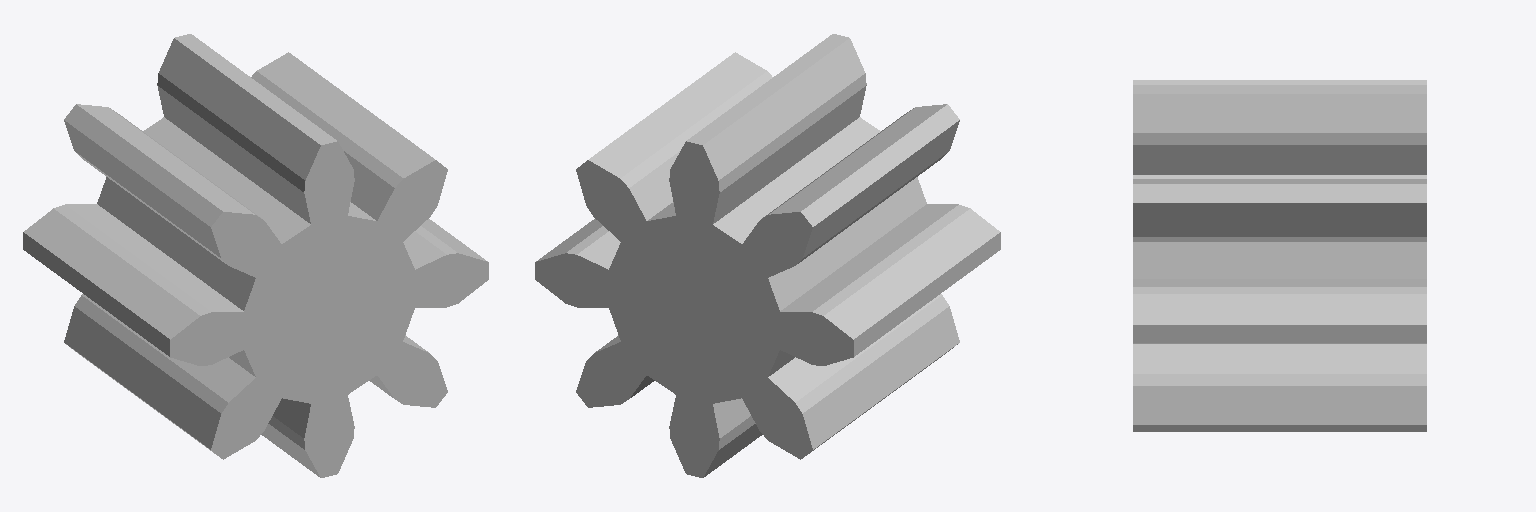
File: gear08a.obj
The picture shows the model from 3 angles: view 1: azimuth 30°, elevation 25°; view 2: azimuth 150°, elevation 25°; view 3: azimuth 270°, elevation 25°; orthographic projection.
Parts seen in each view (by area): view 1: mesh01; view 2: mesh01; view 3: mesh01.
Boxes of the visible parts, box(x1,y1,x2,y2) form: mesh01: box(23, 34, 488, 477); mesh01: box(535, 34, 1000, 477); mesh01: box(1133, 80, 1426, 431).
Bounding box in the file's own units: 2.5 × 2.5 × 2.